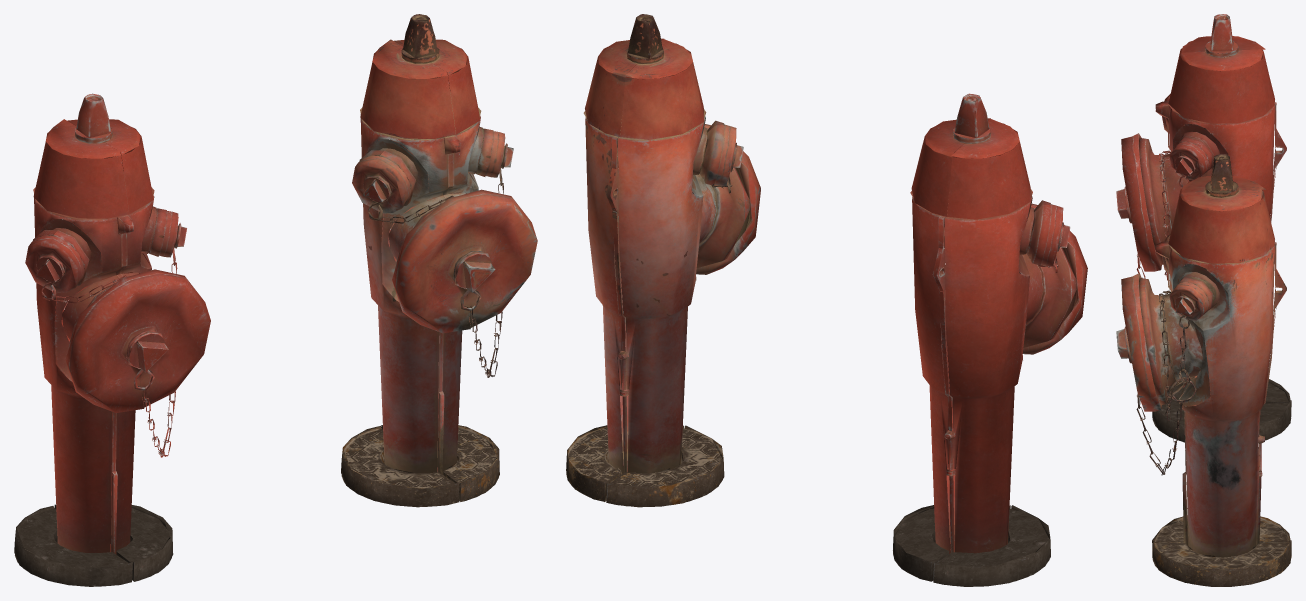
Rendered from fire_hydrant_lod.gltf.
3 views of the same model, side by side, from view 1: azimuth 30°, elevation 25°; view 2: azimuth 150°, elevation 25°; view 3: azimuth 270°, elevation 25° (orthographic). The views are drawn at different scales.
Parts seen in each view (by area): view 1: fire_hydrant_aged, fire_hydrant, fire_hydrant_cap_01, fire_hydrant_cap_01_aged, fire_hydrant_cap_03_aged, fire_hydrant_cap_03, fire_hydrant_chain, fire_hydrant_chain_aged, fire_hydrant_cap_02_aged, fire_hydrant_cap_02; view 2: fire_hydrant_aged, fire_hydrant, fire_hydrant_cap_01, fire_hydrant_cap_01_aged, fire_hydrant_cap_03_aged, fire_hydrant_cap_03; view 3: fire_hydrant_aged, fire_hydrant, fire_hydrant_cap_01, fire_hydrant_cap_01_aged, fire_hydrant_chain_aged, fire_hydrant_cap_02_aged, fire_hydrant_cap_02, fire_hydrant_chain.
Boxes of the visible parts, x1=… form: fire_hydrant_aged: x1=341, y1=14, x2=499, y2=507; fire_hydrant: x1=14, y1=93, x2=173, y2=586; fire_hydrant_cap_01: x1=65, y1=269, x2=210, y2=412; fire_hydrant_cap_01_aged: x1=392, y1=189, x2=537, y2=333; fire_hydrant_cap_03_aged: x1=352, y1=155, x2=410, y2=213; fire_hydrant_cap_03: x1=25, y1=235, x2=84, y2=292; fire_hydrant_chain: x1=41, y1=225, x2=178, y2=457; fire_hydrant_chain_aged: x1=368, y1=146, x2=505, y2=377; fire_hydrant_cap_02_aged: x1=485, y1=131, x2=513, y2=177; fire_hydrant_cap_02: x1=159, y1=211, x2=186, y2=257; fire_hydrant_aged: x1=566, y1=14, x2=749, y2=507; fire_hydrant: x1=893, y1=93, x2=1076, y2=586; fire_hydrant_cap_01: x1=1022, y1=203, x2=1087, y2=354; fire_hydrant_cap_01_aged: x1=696, y1=124, x2=760, y2=274; fire_hydrant_cap_03_aged: x1=714, y1=124, x2=743, y2=186; fire_hydrant_cap_03: x1=1041, y1=204, x2=1070, y2=266; fire_hydrant_aged: x1=1139, y1=154, x2=1291, y2=586; fire_hydrant: x1=1139, y1=14, x2=1291, y2=442; fire_hydrant_cap_01: x1=1116, y1=133, x2=1161, y2=271; fire_hydrant_cap_01_aged: x1=1116, y1=273, x2=1161, y2=411; fire_hydrant_chain_aged: x1=1136, y1=289, x2=1196, y2=475; fire_hydrant_cap_02_aged: x1=1169, y1=281, x2=1209, y2=320; fire_hydrant_cap_02: x1=1169, y1=141, x2=1209, y2=180; fire_hydrant_chain: x1=1136, y1=149, x2=1195, y2=280.
Bounding box in the file's own units: 0.8742 × 0.8008 × 0.3177.
2 materials, 2 textured.
